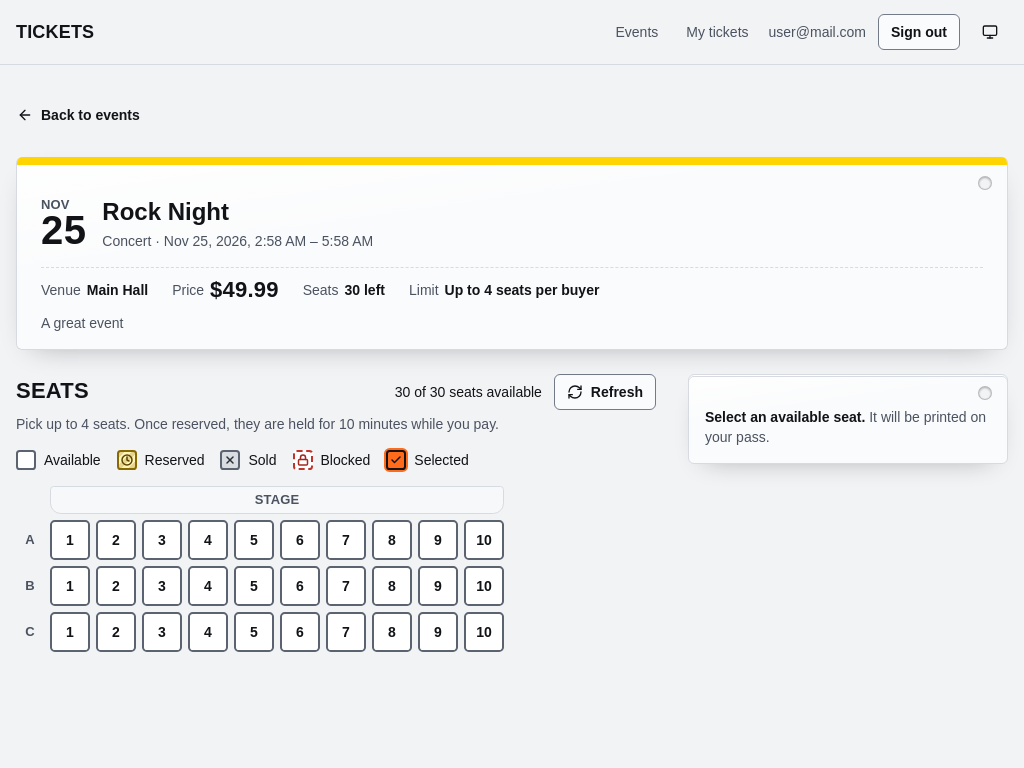
Test: reserving seats › reserves nothing when one seat of the batch was taken, and keeps the others selected
This screenshot has width=1024, height=768.
Click the button named "Seat C7, Available": {"x": 346, "y": 632} x1=326 y1=612 x2=366 y2=652
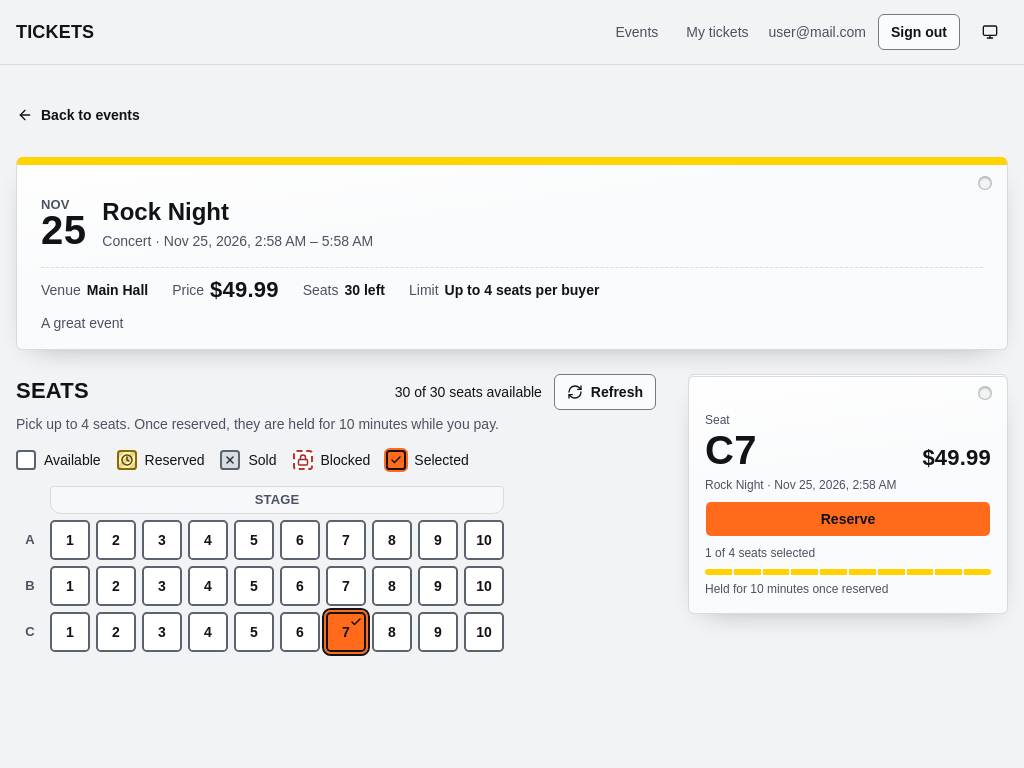
Click the 3rd button "8": {"x": 392, "y": 632} x1=372 y1=612 x2=412 y2=652
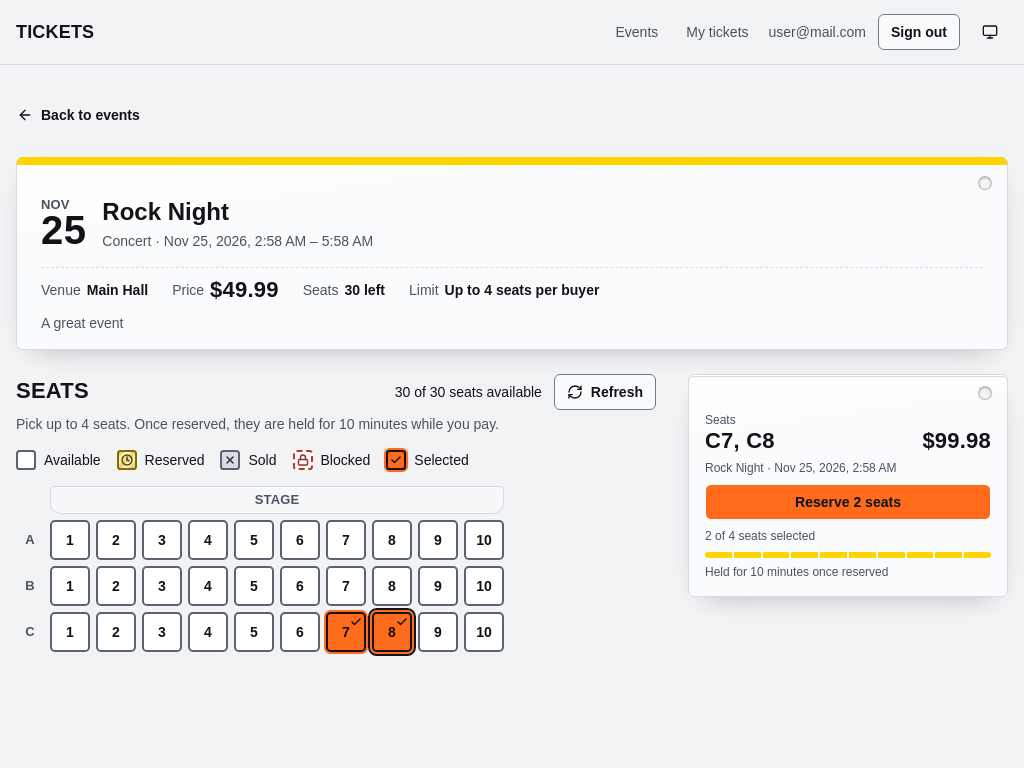
Click the button "Reserve 2 seats": {"x": 848, "y": 502} x1=705 y1=484 x2=991 y2=520
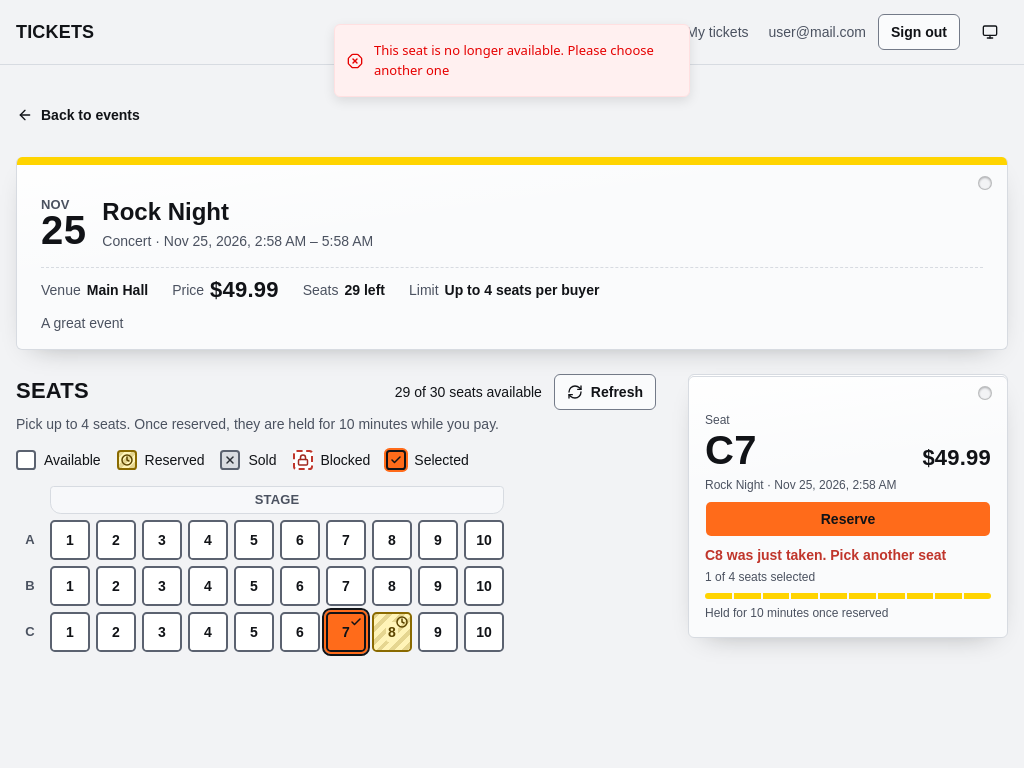
expect the button "Reserve" is enabled: met, box x1=705 y1=501 x2=991 y2=537
expect the text "This seat is no longer available. Please choose another one" is shown: met, box x1=374 y1=41 x2=673 y2=80
expect the text "C8 was just taken. Pick another seat" is shown: met, box x1=705 y1=547 x2=946 y2=563
